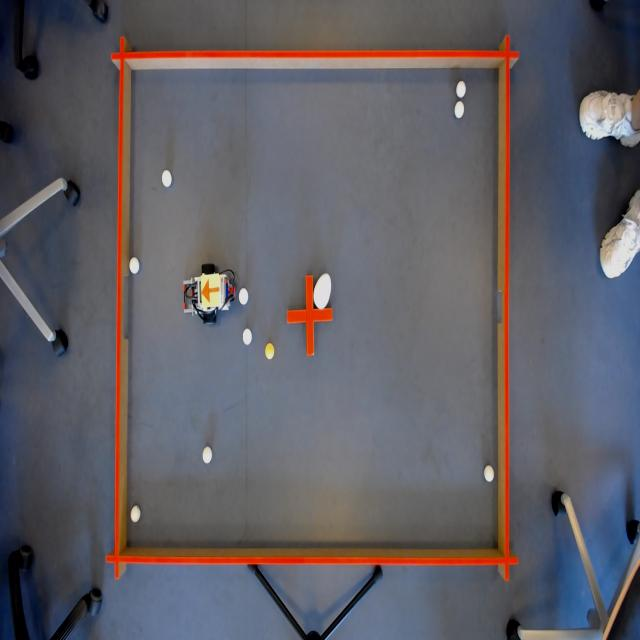cross: (286, 273, 334, 355)
egg: (312, 270, 332, 310)
orange_ball: (264, 339, 276, 364)
robot: (200, 273, 223, 309)
white_ball: (129, 502, 142, 527), (240, 326, 254, 348), (128, 255, 141, 278), (482, 462, 495, 485), (454, 78, 467, 100), (452, 99, 464, 122), (238, 285, 249, 310), (202, 443, 214, 465), (161, 167, 173, 189)
